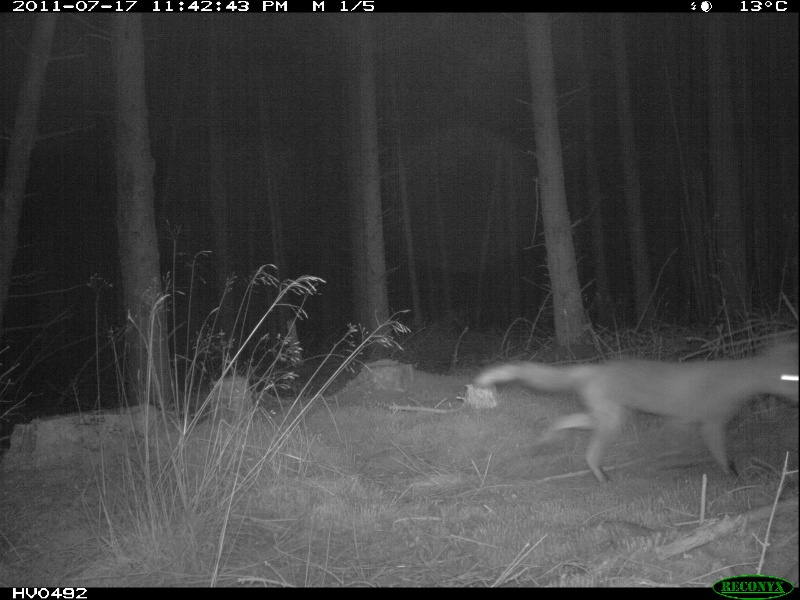fox: (479, 343, 800, 493)
